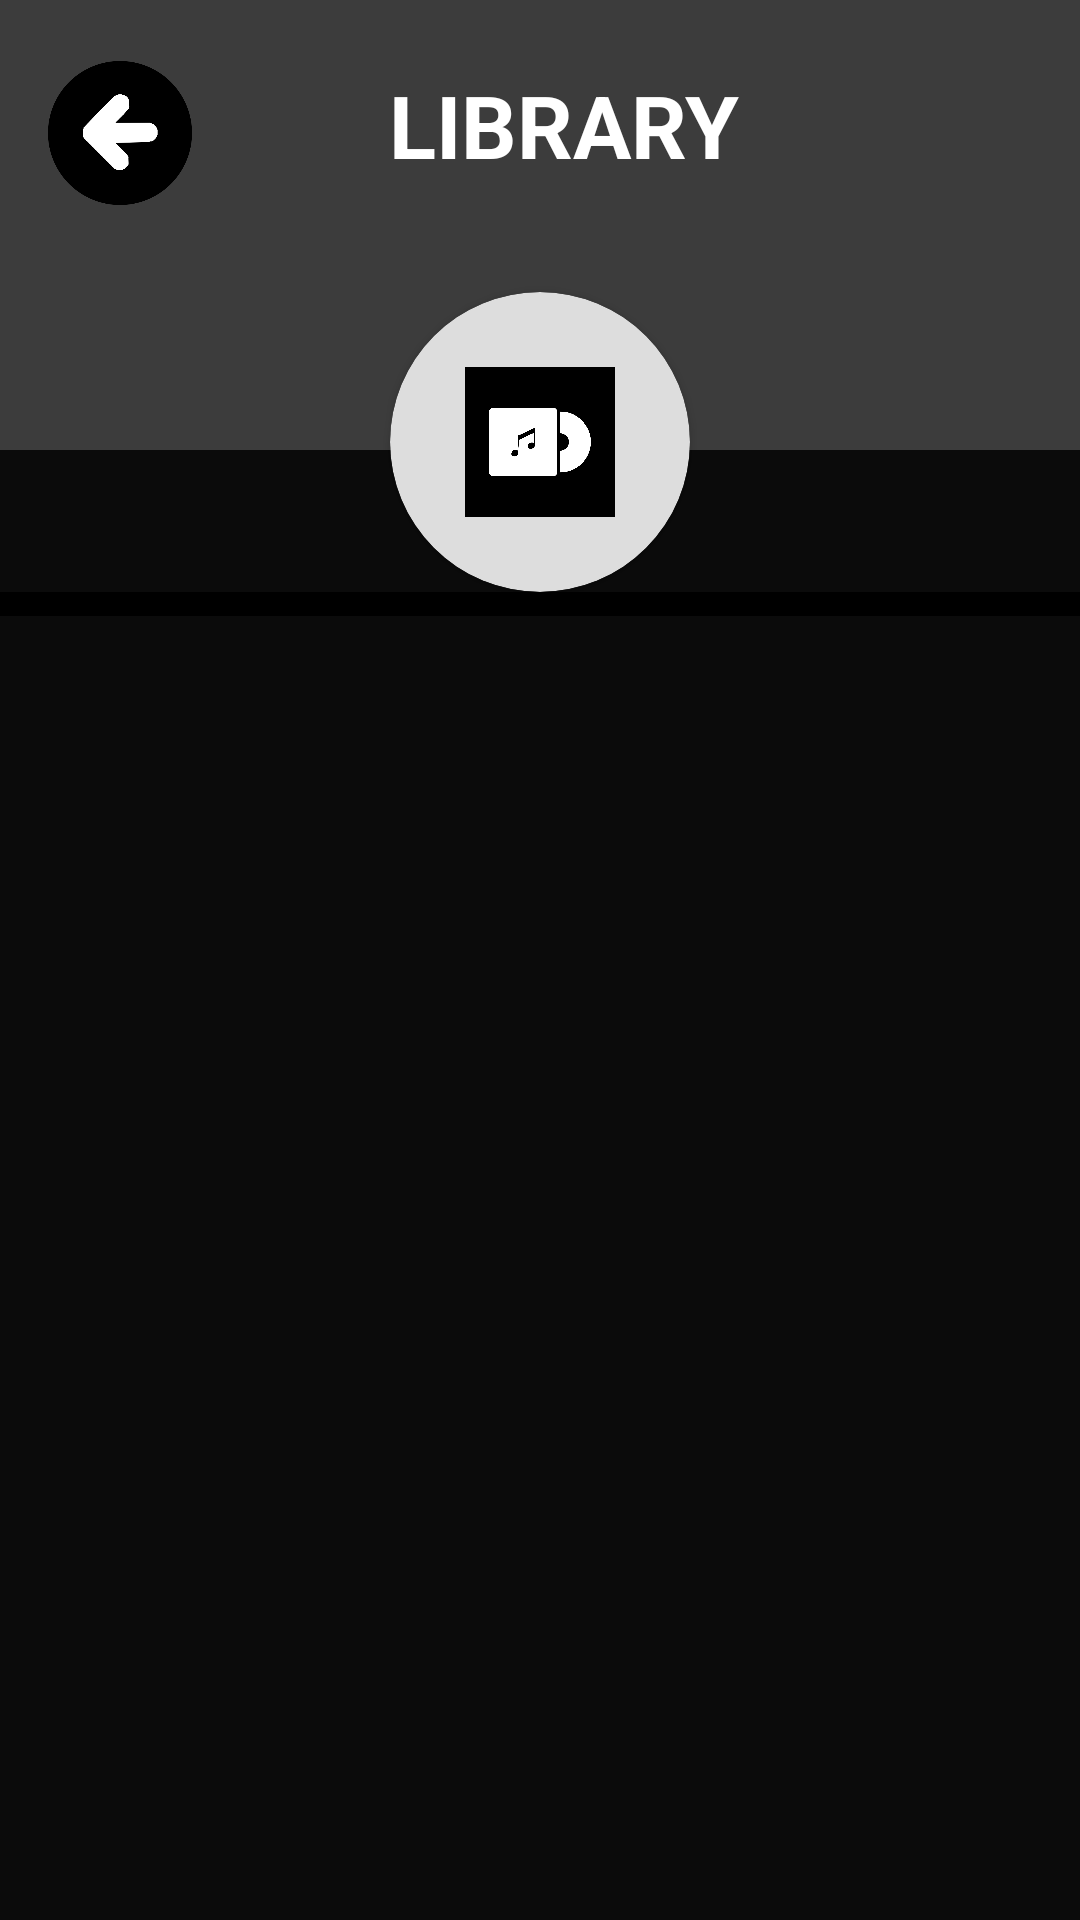

Point at icon controls on the screen. Image size 1080 x 1920, points as point (x, y).
album: point (540, 442)
back: point (120, 133)
